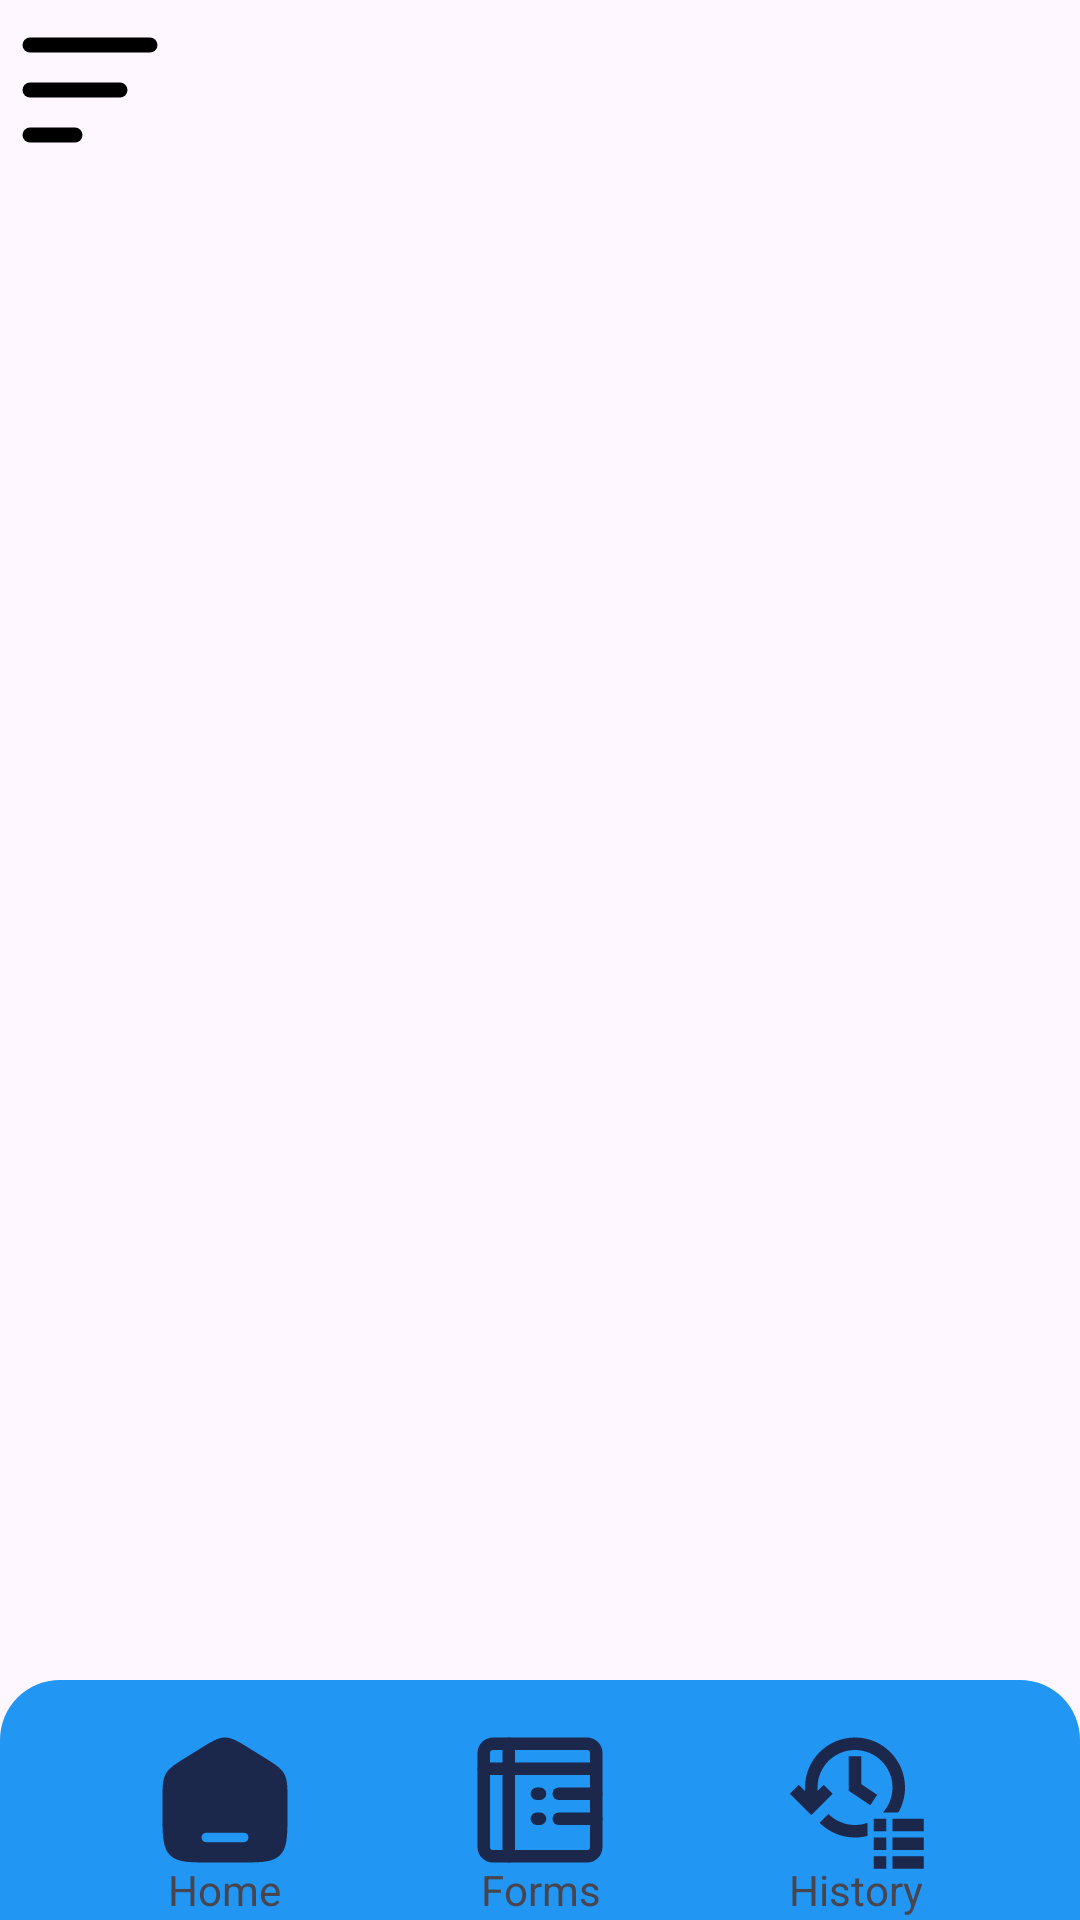

Icon click points for this 1080 x 1920 phone screenshot, format [x,y]:
burger: [90,90]
